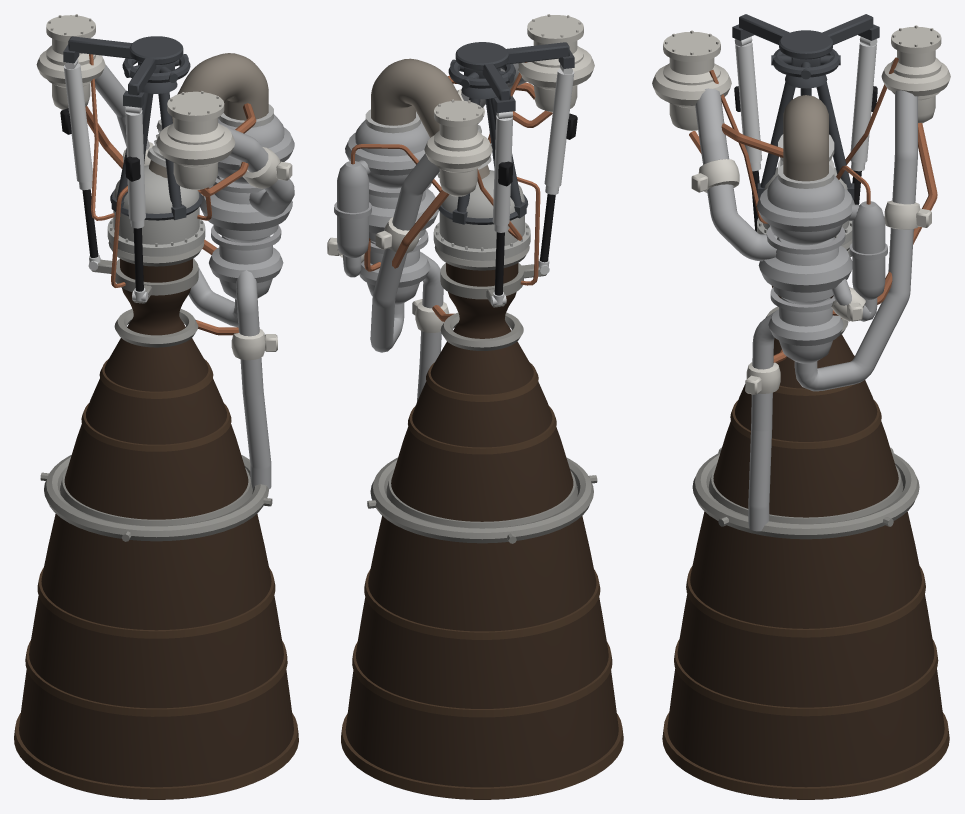
3 renders of one model, left to right at view 1: azimuth 30°, elevation 25°; view 2: azimuth 150°, elevation 25°; view 3: azimuth 270°, elevation 25°, orthographic.
Parts seen in each view (by area): view 1: K19_RegenNozzle, K19_NozzleBands, K19_CoolantManifolds, K19_PropellantLines, K19_BoostPumps, K19_Turbopump, K19_GimbalBearing, K19_Actuators, K19_MixingHead, K19_HotGasDuct, K19_ControlLines, K19_Valves (+1 smaller); view 2: K19_RegenNozzle, K19_NozzleBands, K19_CoolantManifolds, K19_Turbopump, K19_BoostPumps, K19_PropellantLines, K19_GimbalBearing, K19_Actuators, K19_HotGasDuct, K19_MixingHead, K19_ControlLines, K19_Valves (+1 smaller); view 3: K19_RegenNozzle, K19_PropellantLines, K19_Turbopump, K19_NozzleBands, K19_BoostPumps, K19_GimbalBearing, K19_CoolantManifolds, K19_Actuators, K19_Valves, K19_HotGasDuct, K19_ControlLines, K19_DuctBellows.
Boxes of the visible parts, <box> form: K19_RegenNozzle: <box>19,259,293,799</box>; K19_NozzleBands: <box>14,359,298,799</box>; K19_CoolantManifolds: <box>40,241,272,541</box>; K19_PropellantLines: <box>95,65,294,489</box>; K19_BoostPumps: <box>36,14,235,190</box>; K19_Turbopump: <box>199,114,294,299</box>; K19_GimbalBearing: <box>63,36,202,220</box>; K19_Actuators: <box>60,58,148,301</box>; K19_MixingHead: <box>107,165,205,256</box>; K19_HotGasDuct: <box>149,53,268,178</box>; K19_ControlLines: <box>85,54,256,335</box>; K19_Valves: <box>123,142,292,360</box>; K19_RegenNozzle: <box>345,263,618,799</box>; K19_NozzleBands: <box>341,362,623,799</box>; K19_CoolantManifolds: <box>367,245,597,543</box>; K19_Turbopump: <box>334,120,439,305</box>; K19_BoostPumps: <box>424,14,594,196</box>; K19_PropellantLines: <box>342,63,526,401</box>; K19_GimbalBearing: <box>438,42,574,224</box>; K19_Actuators: <box>490,64,577,305</box>; K19_HotGasDuct: <box>371,58,489,179</box>; K19_MixingHead: <box>433,170,530,260</box>; K19_ControlLines: <box>351,62,552,321</box>; K19_Valves: <box>327,89,484,332</box>; K19_RegenNozzle: <box>667,286,944,799</box>; K19_PropellantLines: <box>695,88,917,531</box>; K19_Turbopump: <box>757,175,887,363</box>; K19_NozzleBands: <box>662,355,949,799</box>; K19_BoostPumps: <box>652,25,950,130</box>; K19_GimbalBearing: <box>732,14,879,199</box>; K19_CoolantManifolds: <box>692,239,919,539</box>; K19_Actuators: <box>734,36,877,231</box>; K19_Valves: <box>691,159,931,394</box>; K19_HotGasDuct: <box>783,95,828,181</box>; K19_ControlLines: <box>689,57,937,363</box>; K19_DuctBellows: <box>778,134,834,188</box>.
Bounding box in the file's own units: 1.54 × 4 × 1.55.
